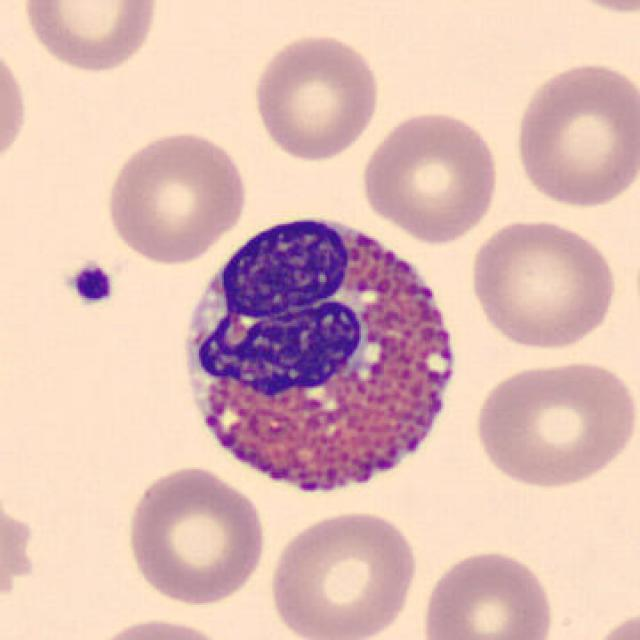Eosinophil: (163, 194, 474, 518)
Platelets: (66, 259, 116, 309)
RBC: (470, 354, 638, 492), (121, 462, 270, 608), (466, 215, 620, 353), (265, 504, 421, 640), (101, 125, 251, 266), (357, 106, 503, 245), (508, 56, 638, 212), (247, 28, 384, 164), (416, 545, 558, 640), (18, 0, 164, 76), (0, 35, 32, 178), (79, 613, 236, 640), (588, 606, 638, 640), (546, 0, 638, 18)
